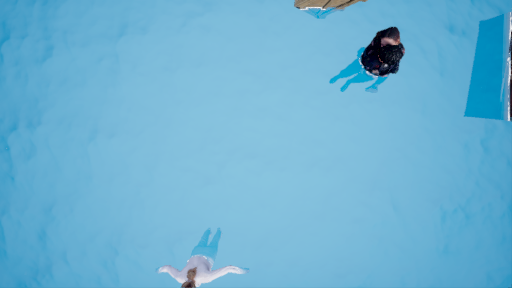person: (332, 26, 411, 102), (160, 225, 237, 287)
